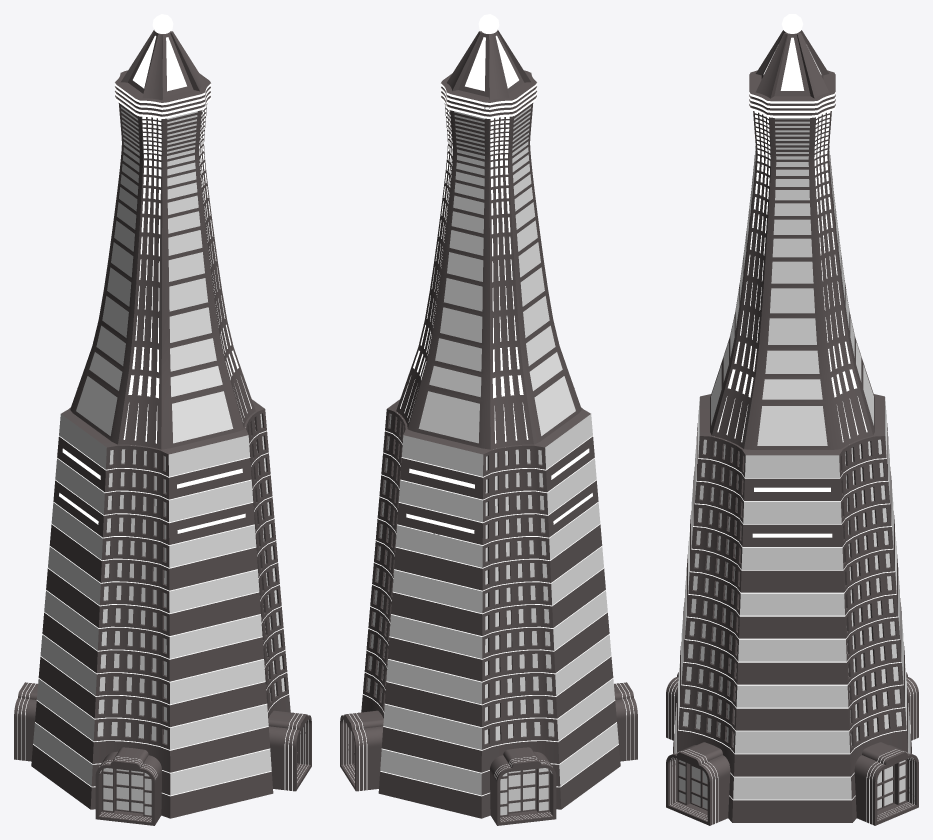
Rendered from AMS S1.fbx.
3 views of the same model, side by side, from view 1: azimuth 30°, elevation 25°; view 2: azimuth 150°, elevation 25°; view 3: azimuth 270°, elevation 25° (orthographic).
Visible parts, largest first — view 1: S1 WALLS MAT, S1 windows mat, S1 NEON MAT; view 2: S1 WALLS MAT, S1 windows mat, S1 NEON MAT; view 3: S1 WALLS MAT, S1 windows mat, S1 NEON MAT.
Boxes of the visible parts, <box> form: S1 WALLS MAT: <box>14,30,311,825</box>; S1 windows mat: <box>33,106,284,795</box>; S1 NEON MAT: <box>17,14,308,821</box>; S1 WALLS MAT: <box>340,30,637,825</box>; S1 windows mat: <box>367,106,618,795</box>; S1 NEON MAT: <box>343,14,634,821</box>; S1 WALLS MAT: <box>666,30,918,825</box>; S1 windows mat: <box>675,118,909,799</box>; S1 NEON MAT: <box>668,14,916,824</box>.
Bounding box in the file's own units: 162 × 537 × 162.
Materials: 3 (3 with a texture image).
